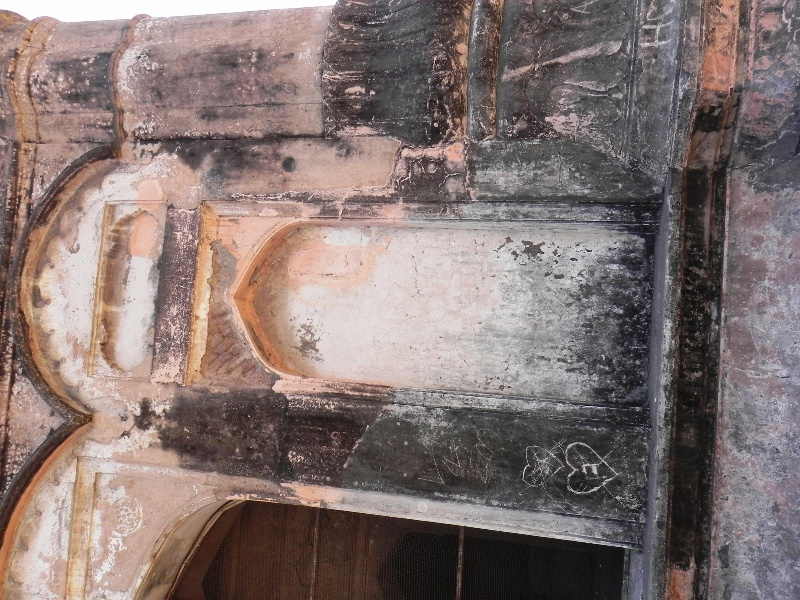Exposed Bricks: (201, 312, 250, 380)
